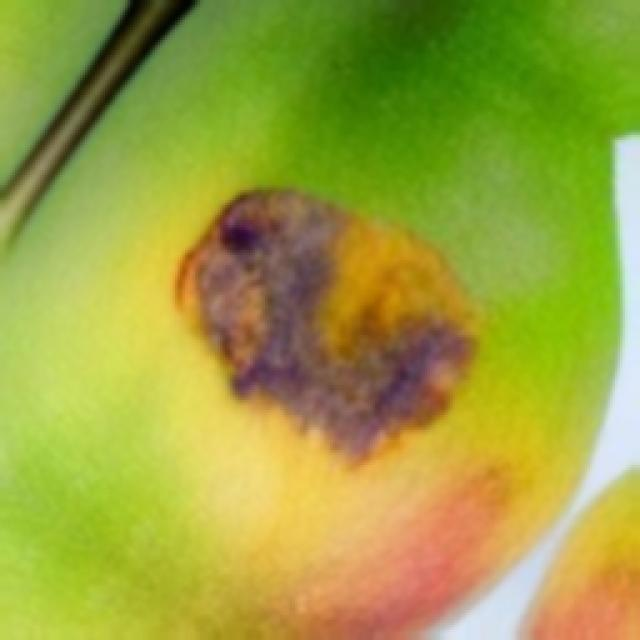defective: (170, 182, 482, 468)
